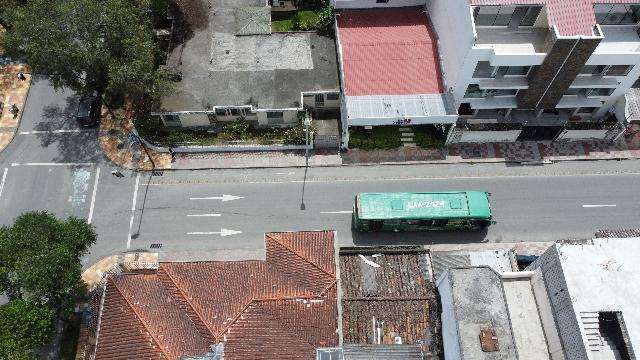Vehiculo: (76, 96, 102, 127)
